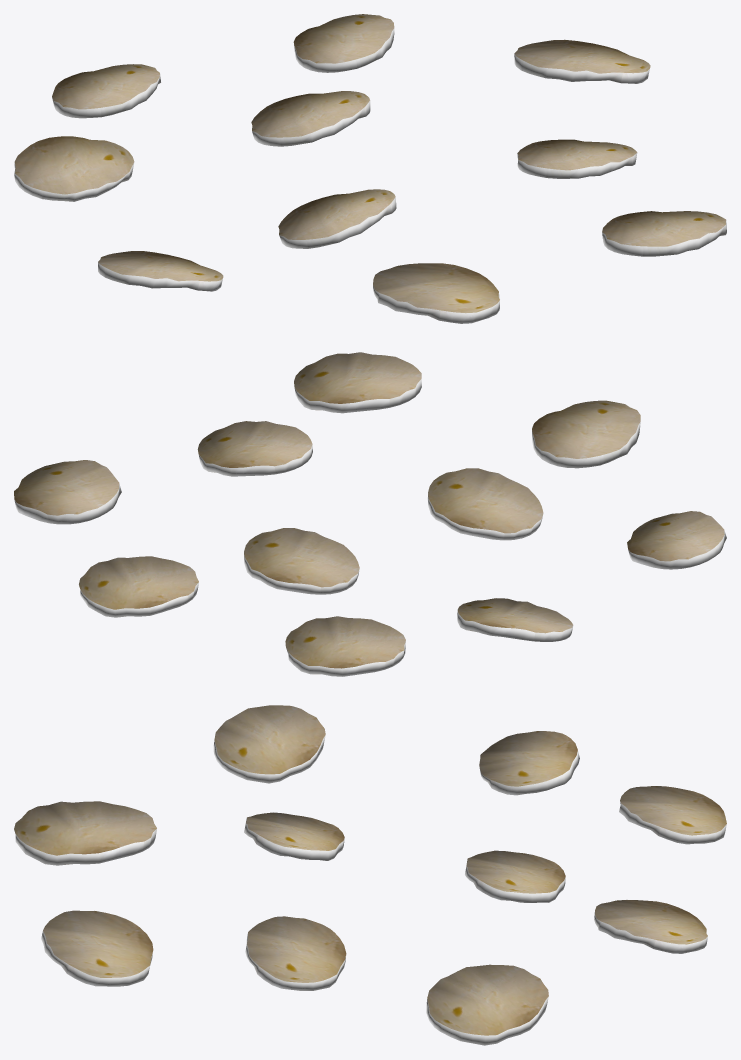
The model's file is mozzarella_topping.fbx.
3 renders of one model, top to bottom at view 1: azimuth 30°, elevation 25°; view 2: azimuth 150°, elevation 25°; view 3: azimuth 270°, elevation 25°, orthographic. The views are drawn at different scales.
Parts seen in each view (by area): view 1: mozzarella.006, mozzarella.002, mozzarella.007, mozzarella.004, mozzarella.008, mozzarella.003, mozzarella.005, mozzarella.009, mozzarella.001, mozzarella; view 2: mozzarella.008, mozzarella.004, mozzarella.007, mozzarella.003, mozzarella.009, mozzarella.002, mozzarella.005, mozzarella.001, mozzarella, mozzarella.006; view 3: mozzarella.005, mozzarella.002, mozzarella, mozzarella.004, mozzarella.001, mozzarella.006, mozzarella.009, mozzarella.003, mozzarella.007, mozzarella.008.
Part boxes in pixels (<box>): mozzarella.006: <box>14,136,134,201</box>; mozzarella.002: <box>373,263,499,323</box>; mozzarella.007: <box>251,91,370,146</box>; mozzarella.004: <box>602,211,726,256</box>; mozzarella.008: <box>278,189,396,248</box>; mozzarella.003: <box>293,14,394,72</box>; mozzarella.005: <box>514,39,650,83</box>; mozzarella.009: <box>52,64,160,118</box>; mozzarella.001: <box>517,139,637,178</box>; mozzarella: <box>98,251,223,291</box>; mozzarella.008: <box>427,468,543,540</box>; mozzarella.004: <box>294,352,421,413</box>; mozzarella.007: <box>244,528,359,594</box>; mozzarella.003: <box>79,556,198,617</box>; mozzarella.009: <box>285,616,405,676</box>; mozzarella.002: <box>532,400,640,468</box>; mozzarella.005: <box>14,460,121,524</box>; mozzarella.001: <box>197,421,312,476</box>; mozzarella: <box>627,511,726,569</box>; mozzarella.006: <box>457,598,573,641</box>; mozzarella.005: <box>426,964,548,1045</box>; mozzarella.002: <box>14,801,156,865</box>; mozzarella: <box>213,705,325,783</box>; mozzarella.004: <box>41,910,153,986</box>; mozzarella.001: <box>245,916,346,990</box>; mozzarella.006: <box>479,731,579,795</box>; mozzarella.009: <box>619,786,726,844</box>; mozzarella.003: <box>594,900,707,953</box>; mozzarella.007: <box>465,850,565,902</box>; mozzarella.008: <box>244,812,344,860</box>.
Size of the model in its own units: 52.41 by 2.81 by 50.5.
10 materials, 10 textured.
